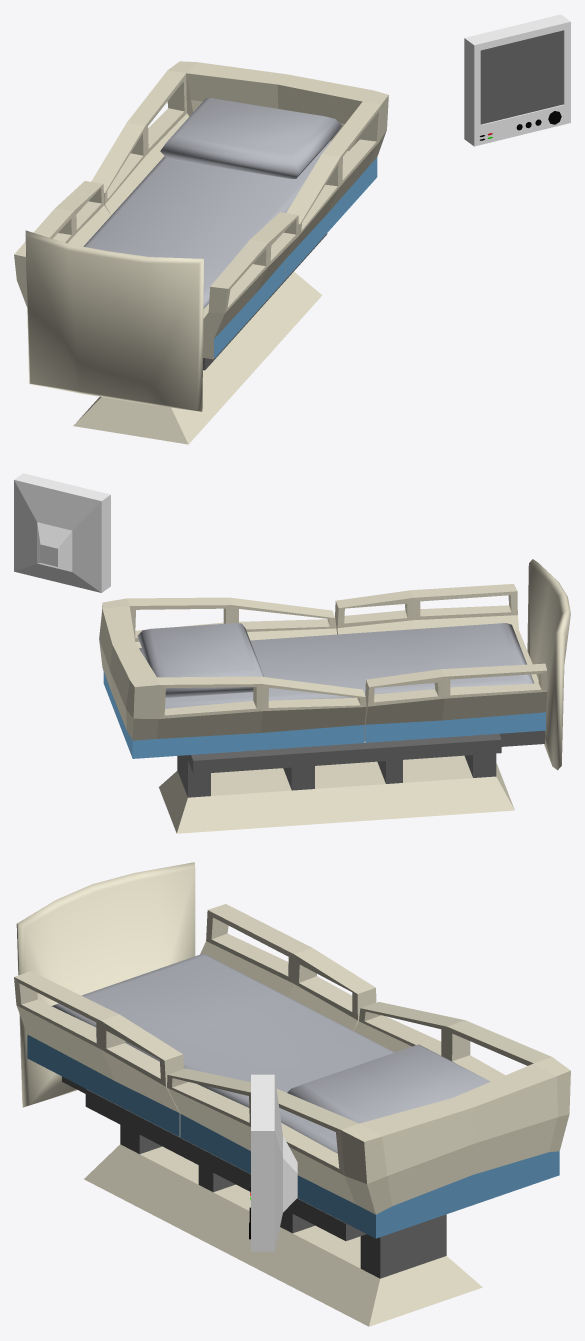
The model's file is cama.fbx.
3 views of the same model, one above another, from view 1: azimuth 30°, elevation 25°; view 2: azimuth 150°, elevation 25°; view 3: azimuth 270°, elevation 25° (orthographic). The views are drawn at different scales.
Parts seen in each view (by area): view 1: cama, colchao, monitor, travesseiro; view 2: cama, colchao, monitor, travesseiro; view 3: cama, colchao, travesseiro, monitor.
Part boxes in pixels (x1,y1,x2,y2): cama: (14, 61, 388, 444); colchao: (83, 141, 331, 308); monitor: (464, 14, 570, 146); travesseiro: (160, 98, 341, 178); cama: (99, 559, 570, 833); colchao: (139, 623, 534, 708); monitor: (14, 473, 110, 592); travesseiro: (137, 623, 263, 697); cama: (14, 862, 570, 1326); colchao: (51, 953, 394, 1153); travesseiro: (287, 1044, 490, 1123); monitor: (249, 1074, 297, 1251).
Bounding box in the file's own units: 174 × 76.09 × 123.
